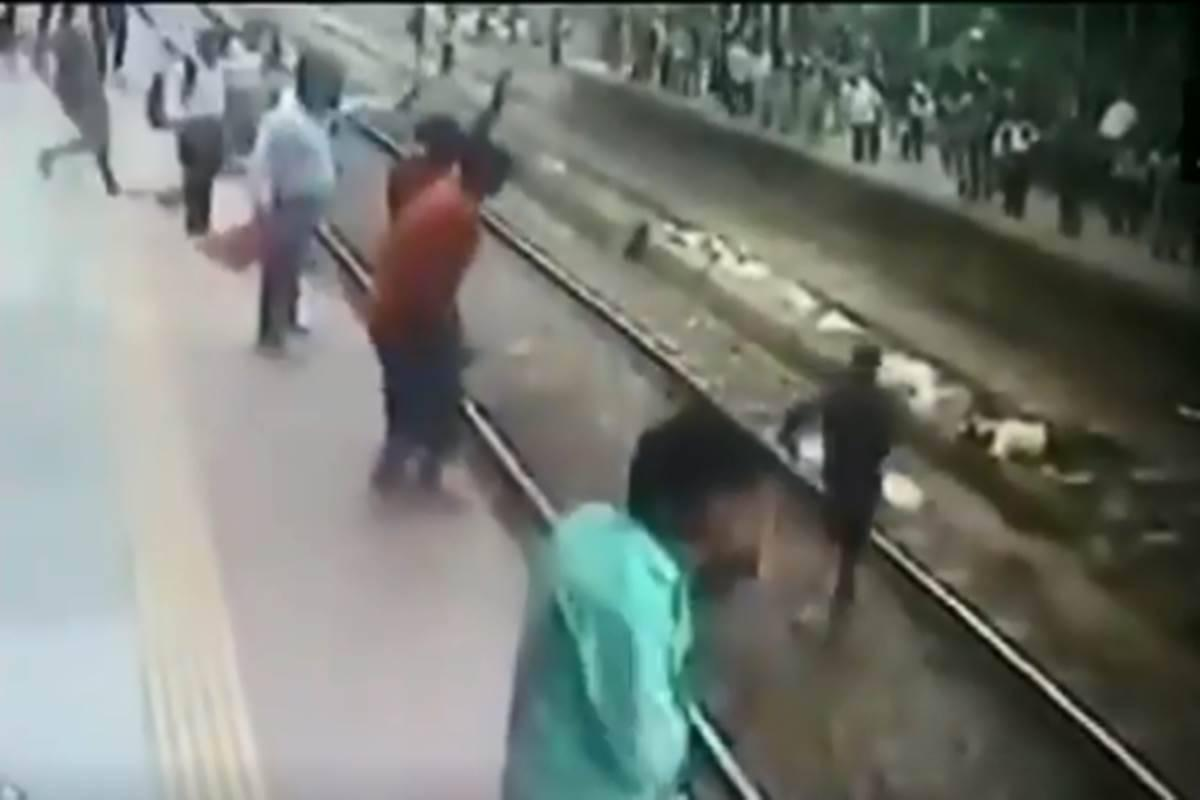person: (510, 409, 770, 800), (371, 137, 518, 513), (799, 339, 910, 639), (249, 45, 345, 363), (157, 25, 231, 245)
